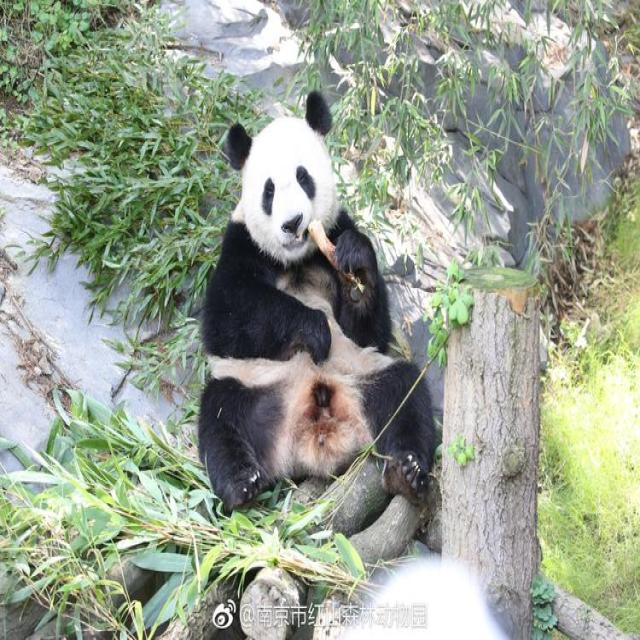panda: (195, 86, 443, 529)
